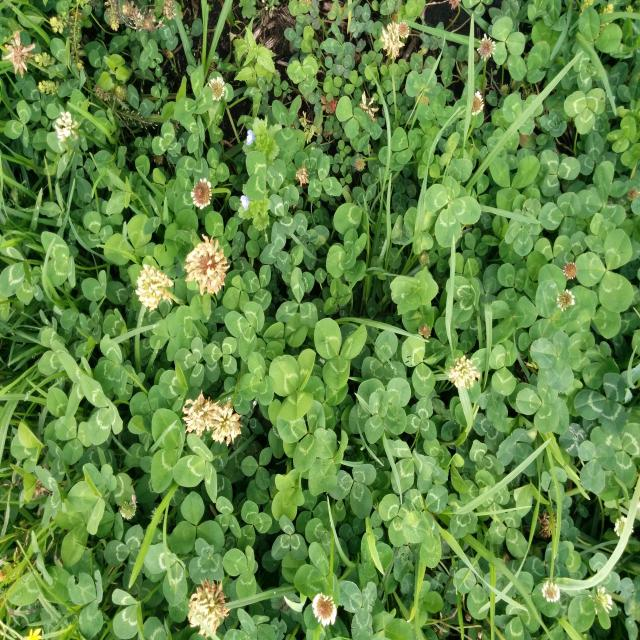Four Leaf Clover: (424, 176, 481, 248)
